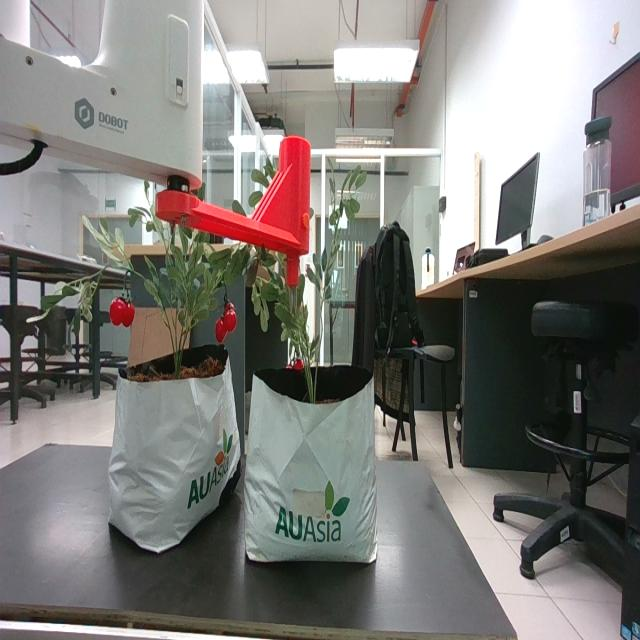EndEffector: (0, 0, 311, 287)
Soilbag: (108, 350, 240, 556), (242, 367, 378, 566)
plant: (54, 215, 257, 380), (251, 165, 367, 404)
